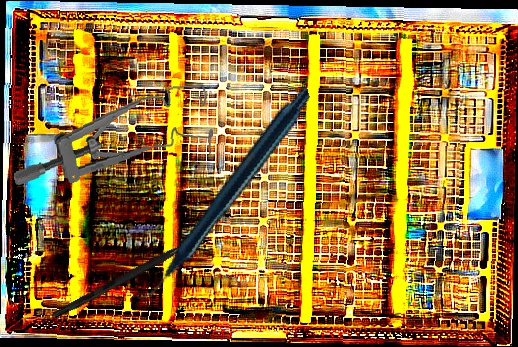Handpiece: (94, 85, 351, 302)
Hook Surgical: (52, 222, 221, 321)
Speculum: (7, 83, 217, 188)
